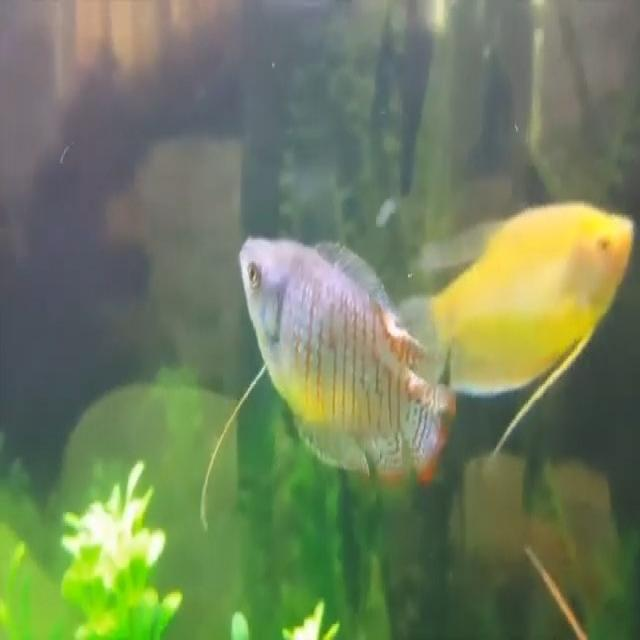fish: (237, 212, 453, 496), (424, 194, 640, 401)
